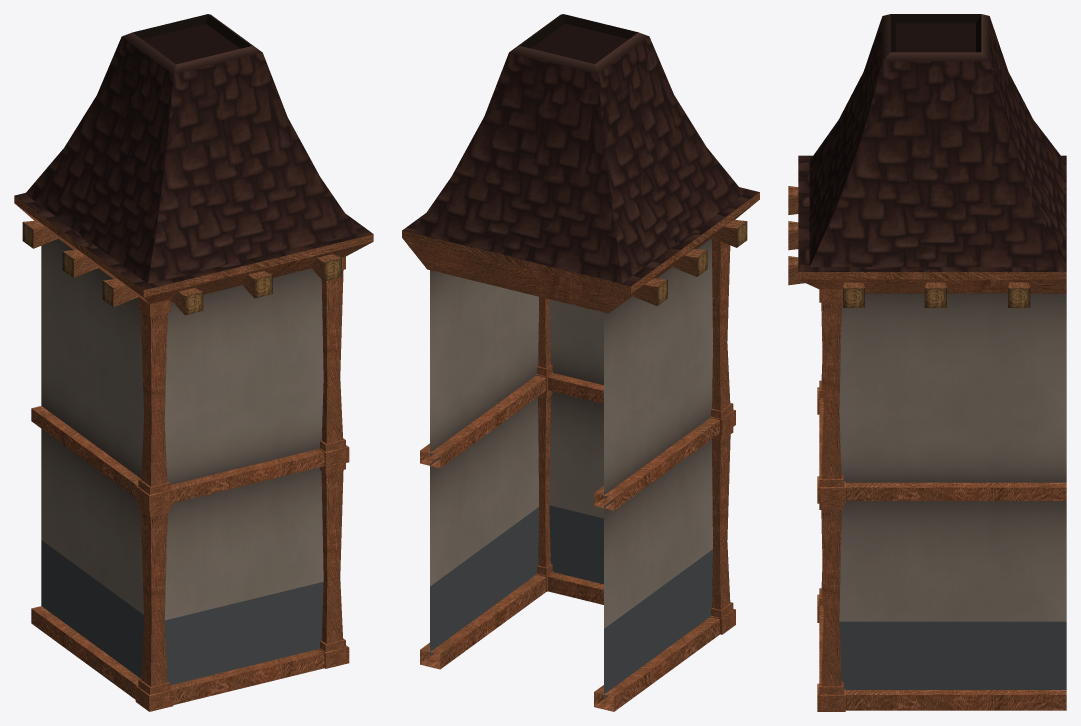
Rendered from fanasty_mod_squ_tower_lar_extention.fbx.
The picture shows the model from 3 angles, left to right: view 1: azimuth 30°, elevation 25°; view 2: azimuth 150°, elevation 25°; view 3: azimuth 270°, elevation 25°; orthographic projection. The views are drawn at different scales.
Visible parts, largest first — view 1: squ_tower_lar_extention; view 2: squ_tower_lar_extention; view 3: squ_tower_lar_extention.
Part boxes in pixels (<box>): squ_tower_lar_extention: <box>14,14,373,711</box>; squ_tower_lar_extention: <box>402,14,759,711</box>; squ_tower_lar_extention: <box>788,14,1066,711</box>.
Bounding box in the file's own units: 4.58 × 10.71 × 4.29.
